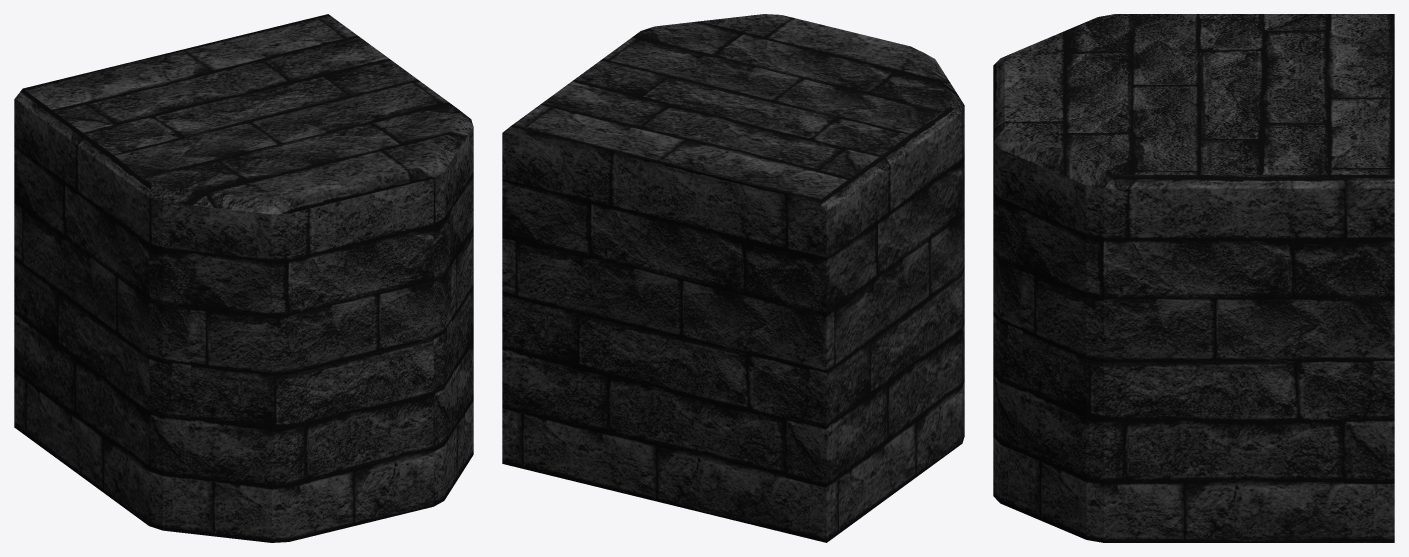
File: Castle Pilar (Short).FBX
3 renders of one model, left to right at view 1: azimuth 30°, elevation 25°; view 2: azimuth 150°, elevation 25°; view 3: azimuth 270°, elevation 25°, orthographic. The views are drawn at different scales.
Visible parts, largest first — view 1: Block; view 2: Block; view 3: Block.
Boxes of the visible parts, x1,y1,x2,y2 form: Block: (14,14,473,542); Block: (502,14,964,542); Block: (993,14,1394,542).
Size of the model in its own units: 39.37 by 39.37 by 39.37.
1 material, 1 textured.
